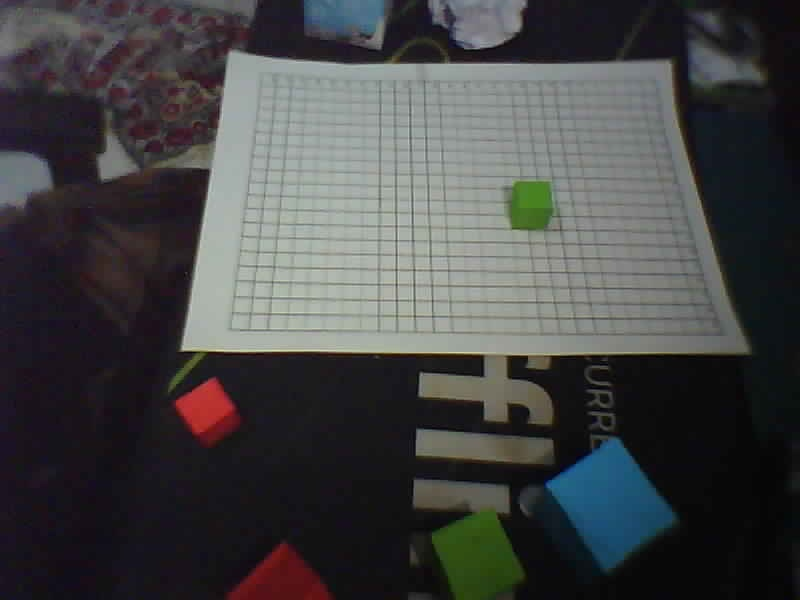green 2x2x2: (501, 173, 566, 235)
